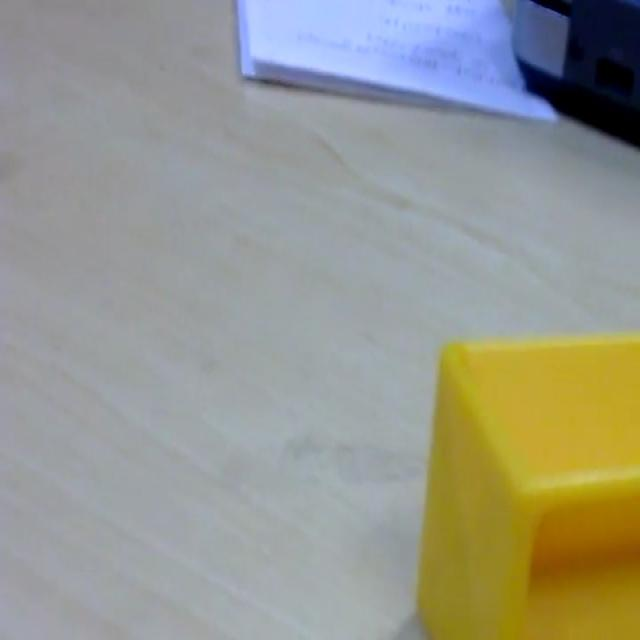yellow_block: (416, 331, 638, 636)
